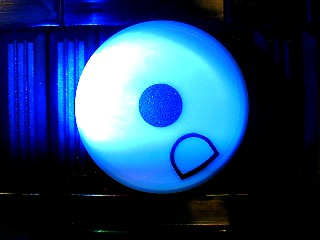BOHOMIPO1: (74, 19, 250, 194)
